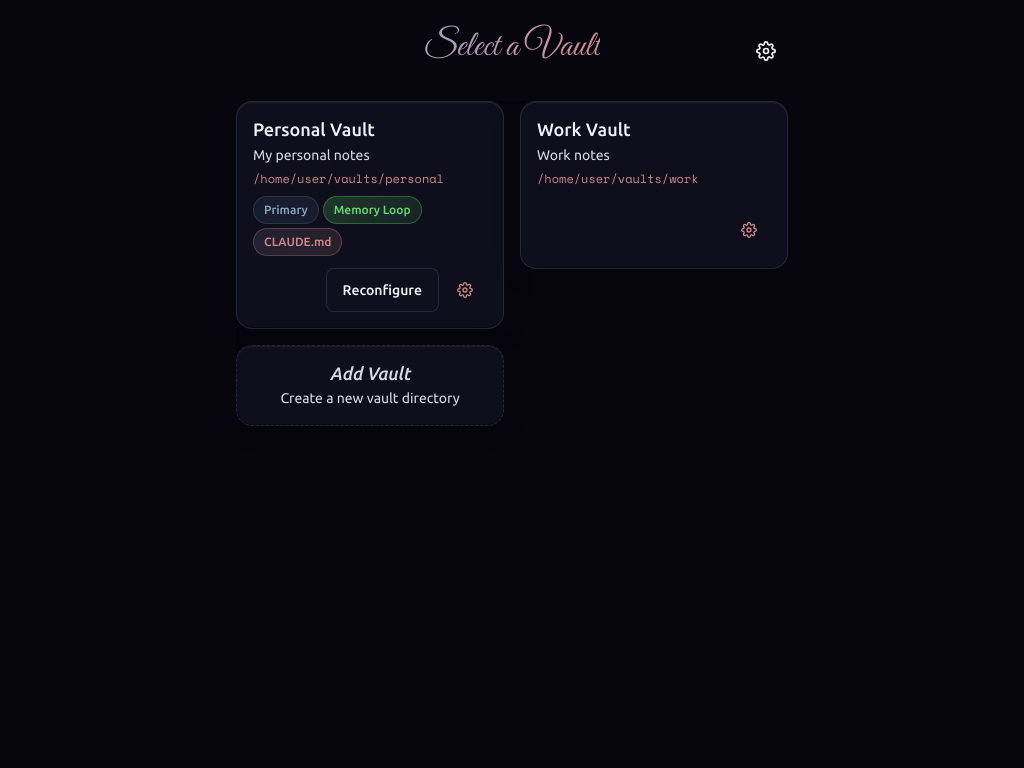
Test: VaultSelect › gear button (config) › opens config dialog when gear button is clicked
Check: the heading "Personal Vault" is shown, box [253, 119, 375, 139]
Click the button named "Configure Personal Vault settings". click: click(465, 290)
box: [443, 268, 487, 312]
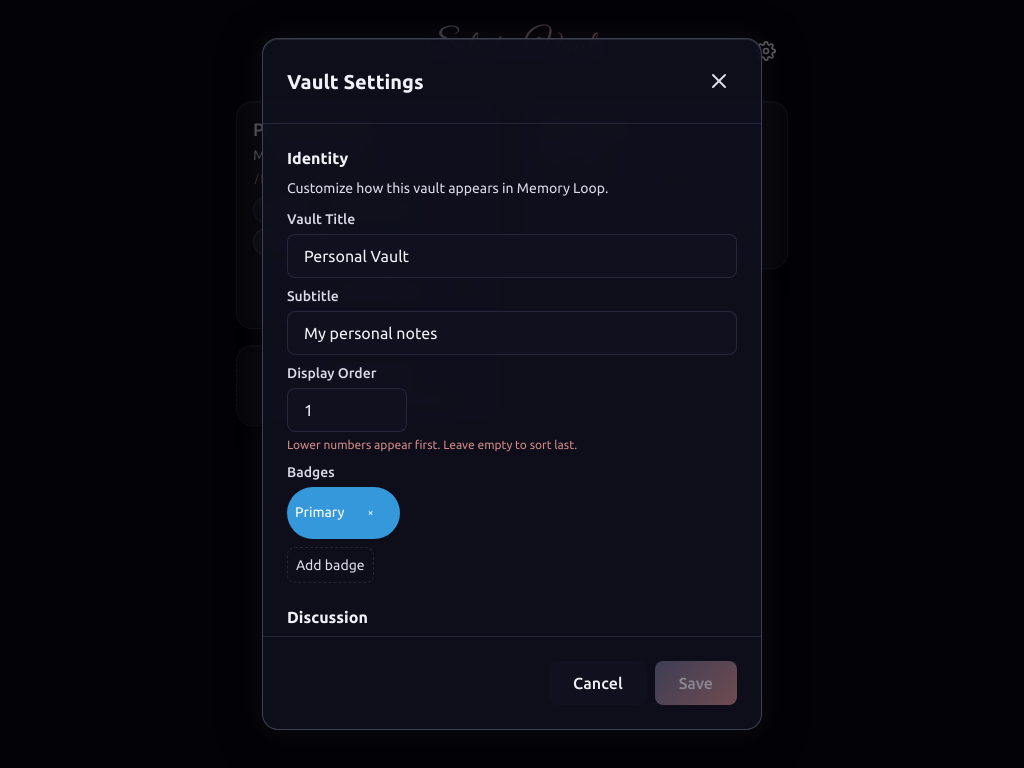
Check: the heading "Vault Settings" is shown, box [287, 69, 424, 94]
